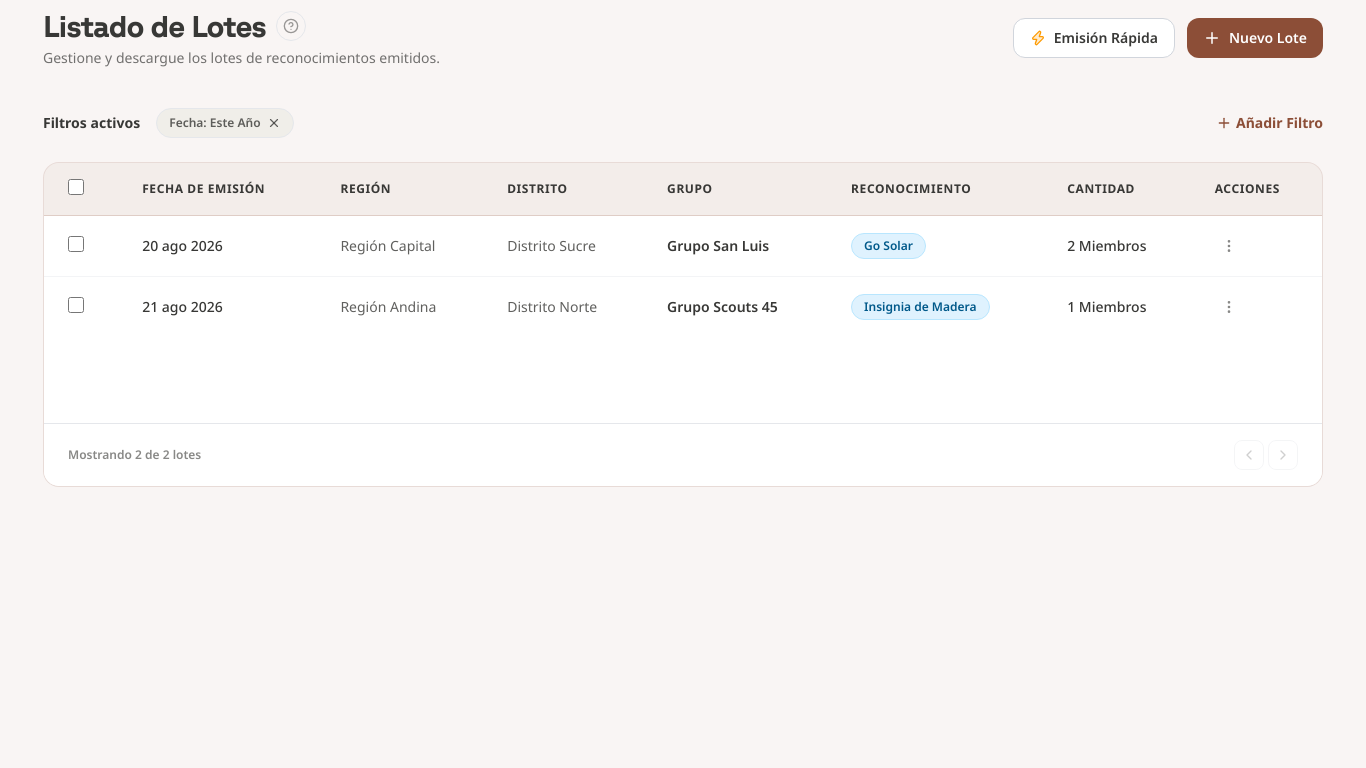
Scenario: BatchList component › filters by date range mode with chip format Fecha: DD/MM/YYYY - DD/MM/YYYY
Expected: the text "Grupo San Luis" is shown, [667,236,769,255]
Remove existing default date filter
Click the button named "Eliminar filtro Fecha". click: (274,123)
box: [266,116,280,130]
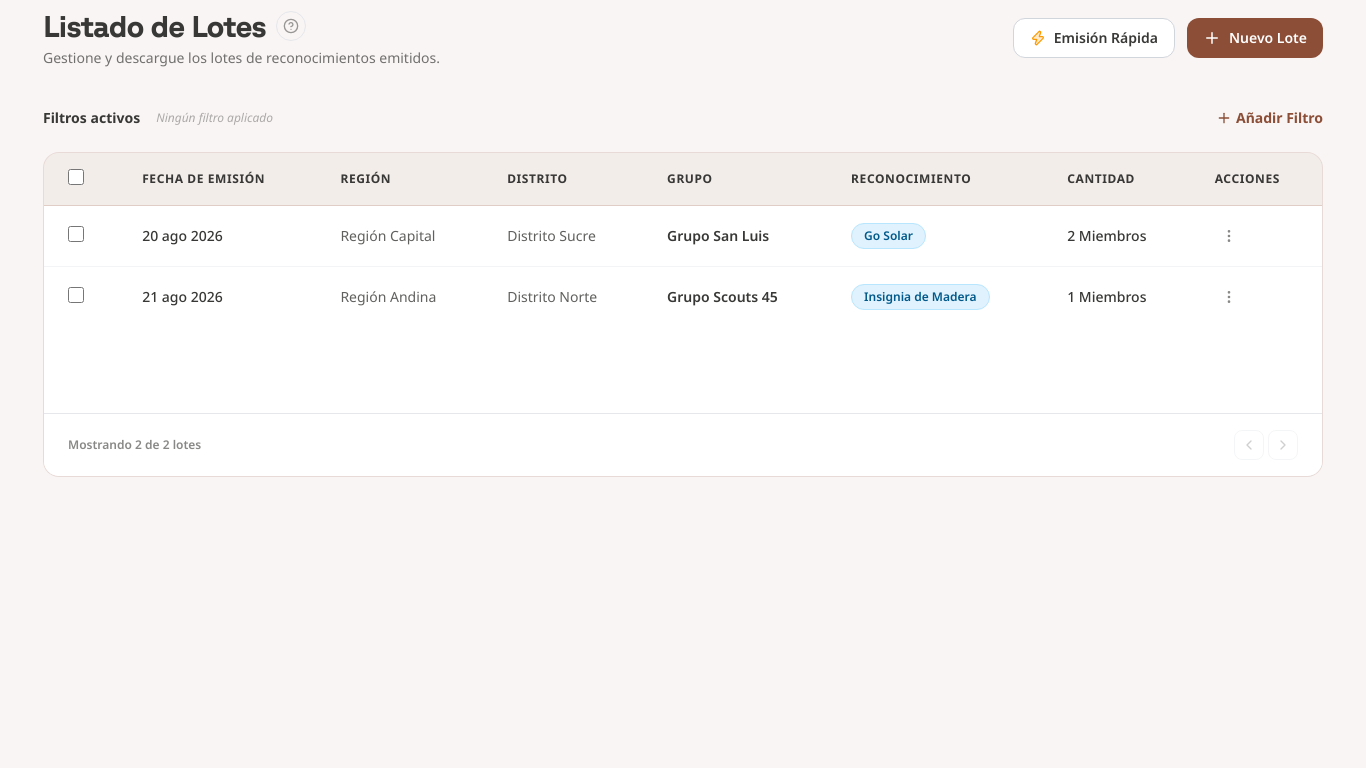
Open add filter modal
Click the button "Añadir Filtro". click: (1270,118)
box: [1216,108,1323,128]
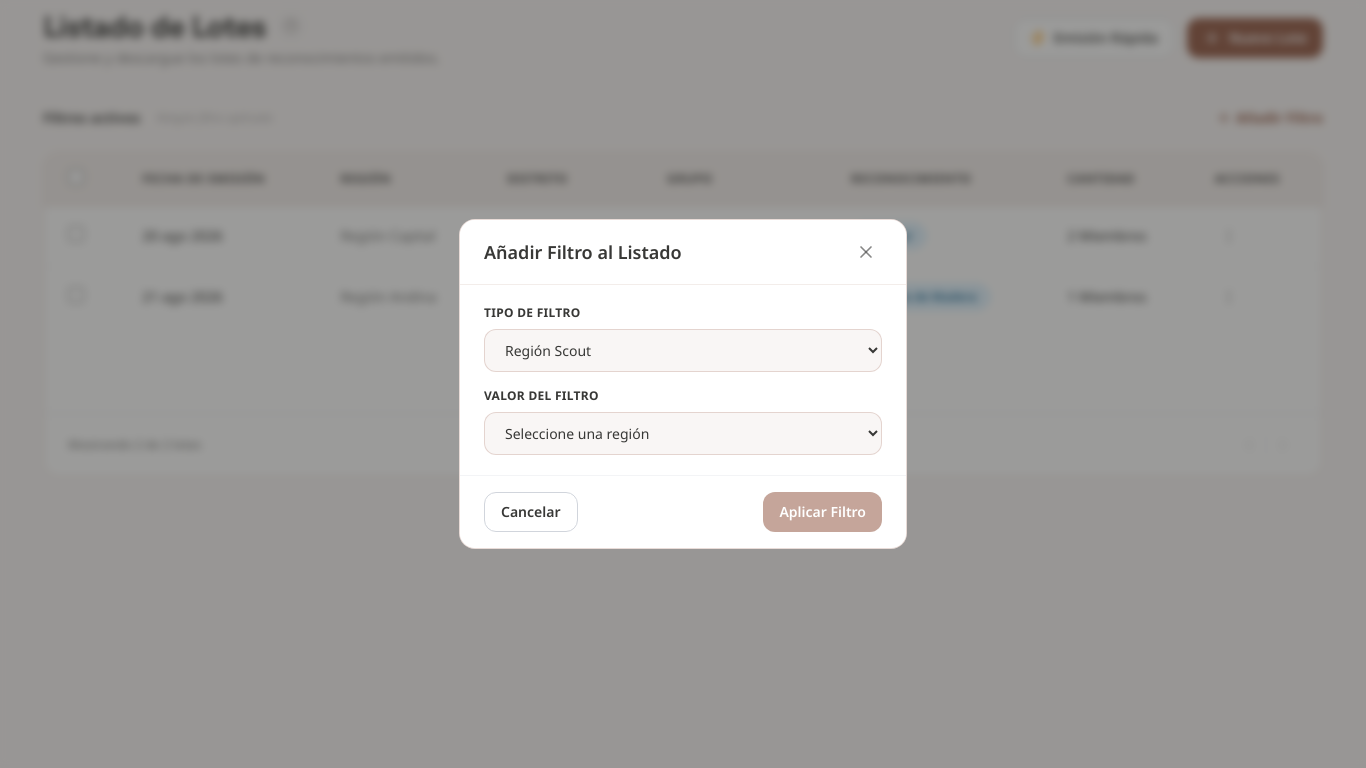
Now the text "Añadir Filtro al Listado" is shown, box [484,238,682,266]
Change filter type to date
Select "Fecha / Período" in the dropdown labelled "Tipo de Filtro". click: (683,350)
box: [484,329,882,372]
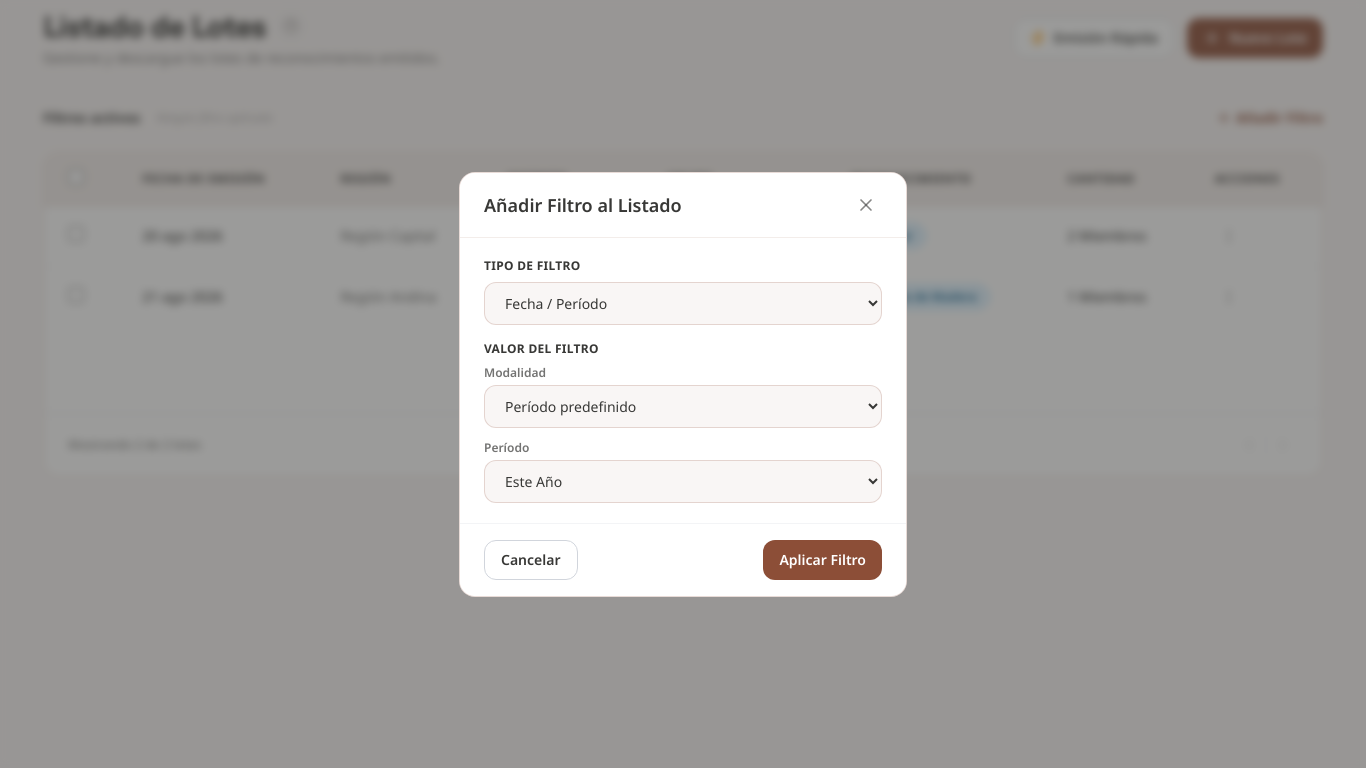
Select mode "Rango de fechas"
Select "Rango de fechas" in the dropdown labelled "Modalidad". click: (683,406)
box: [484,384,882,428]
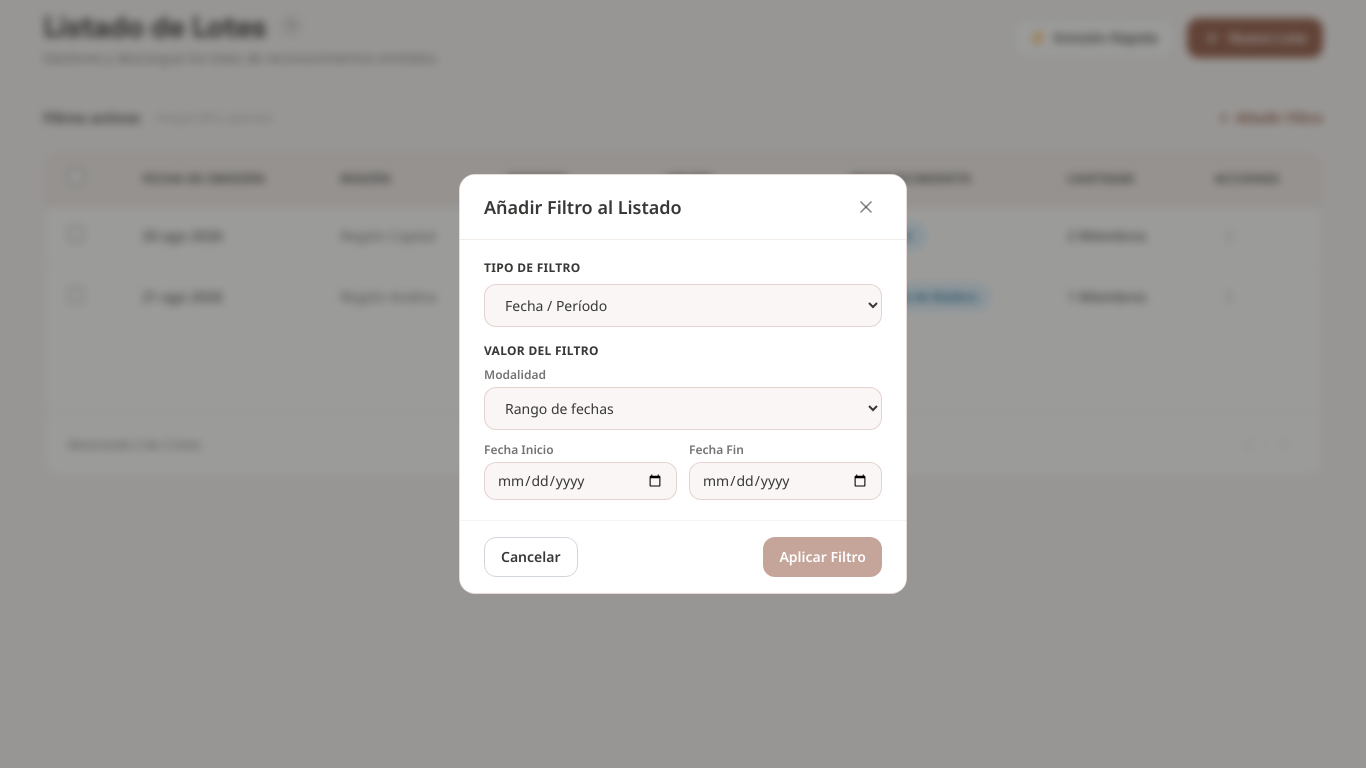
Enter start and end dates
Type "2026-08-01" into the date field labelled "Fecha Inicio". click: (580,481)
box: [484,462,677,500]
Type "2026-08-20" into the date field labelled "Fecha Fin". click: (786,481)
box: [689,462,882,500]
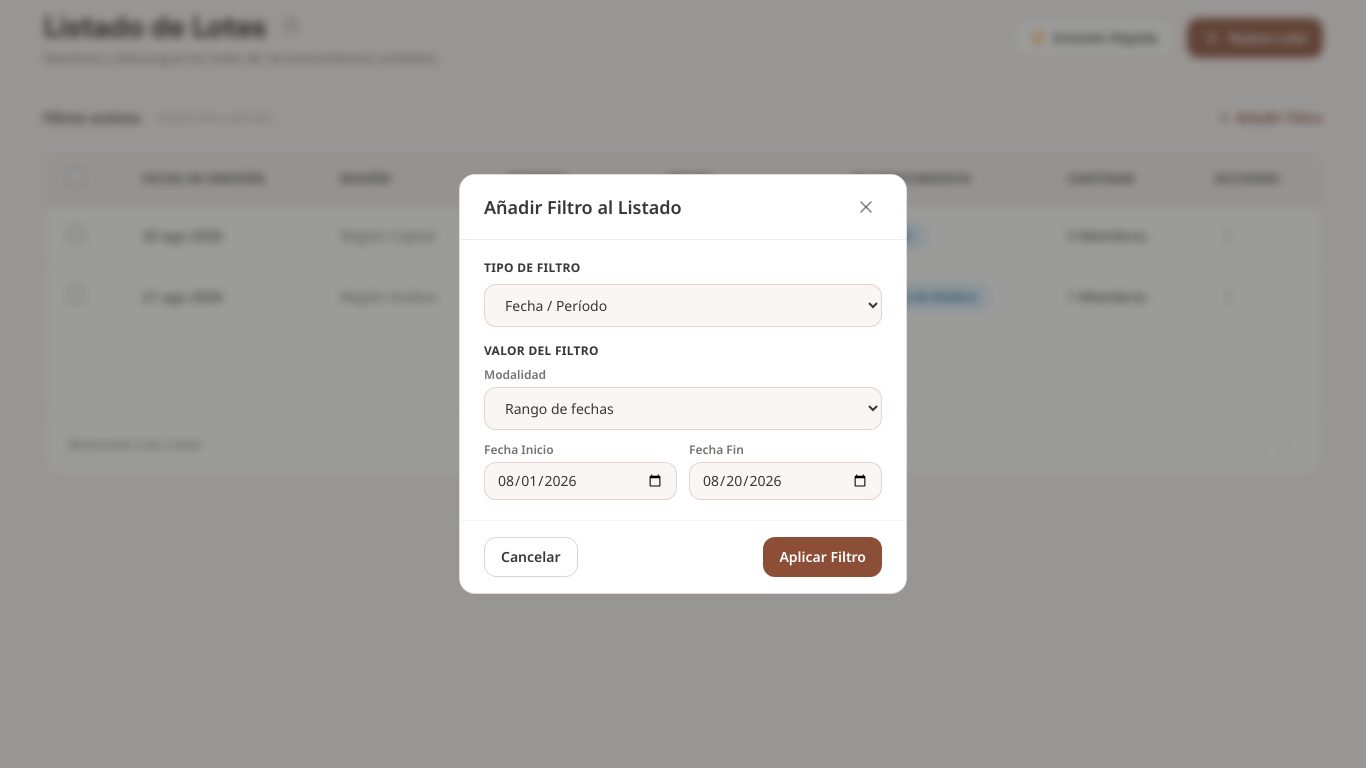
Click the button "Aplicar Filtro". click: (823,557)
box: [763,537,882,577]
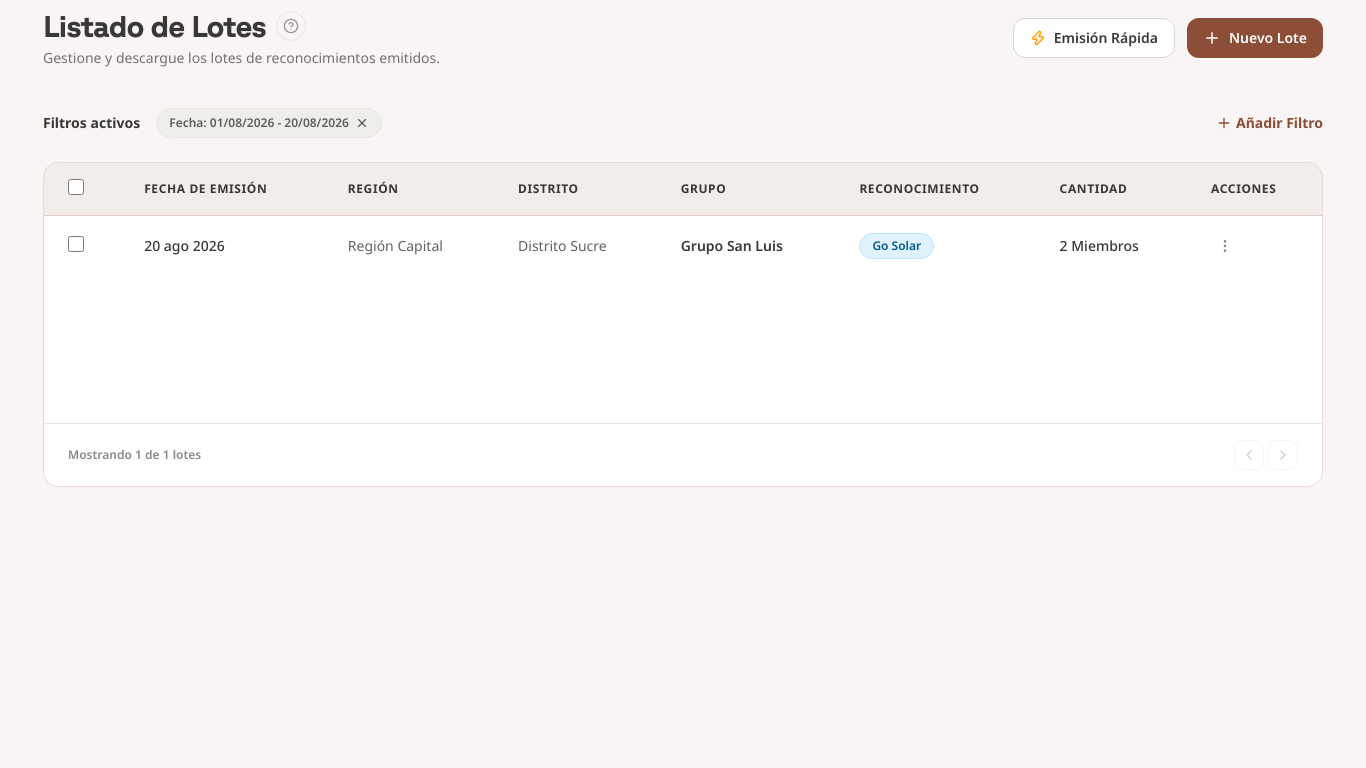
Expected: the text "Grupo San Luis" is shown, [681,236,783,255]
Now the text "Fecha: 01/08/2026 - 20/08/2026" is shown, box [169,115,349,131]
